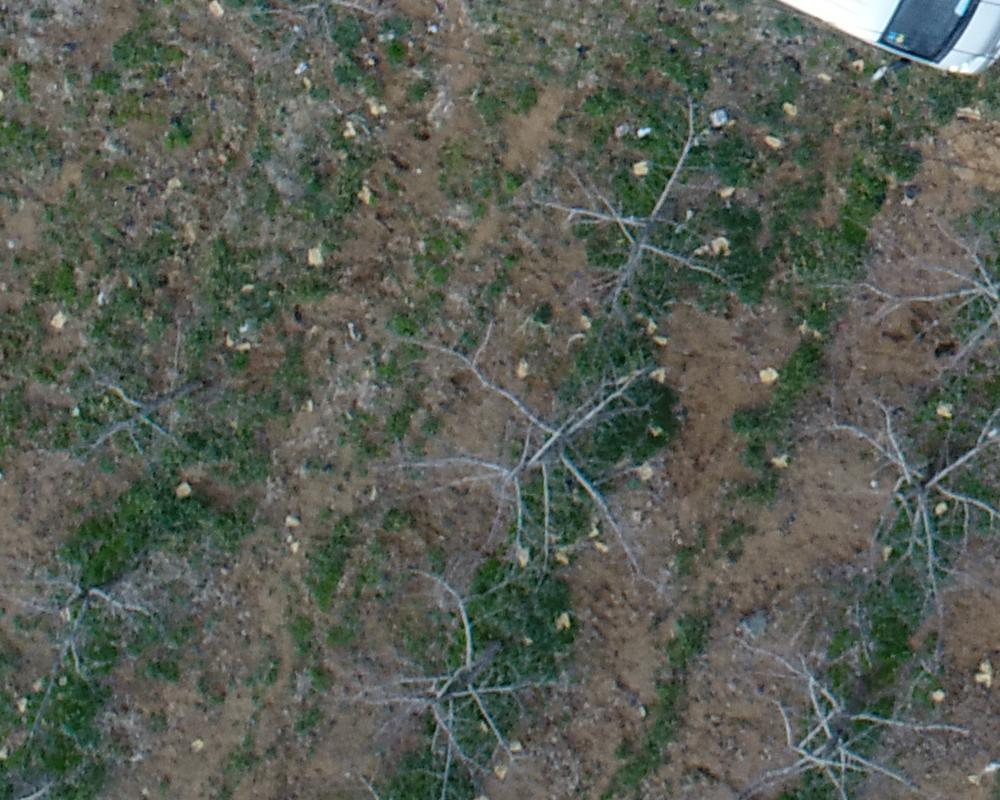apple: (361, 305, 685, 601), (511, 96, 758, 338), (320, 566, 584, 790), (801, 381, 990, 626), (717, 617, 982, 790), (829, 160, 990, 407), (44, 344, 263, 497), (10, 540, 199, 697)
